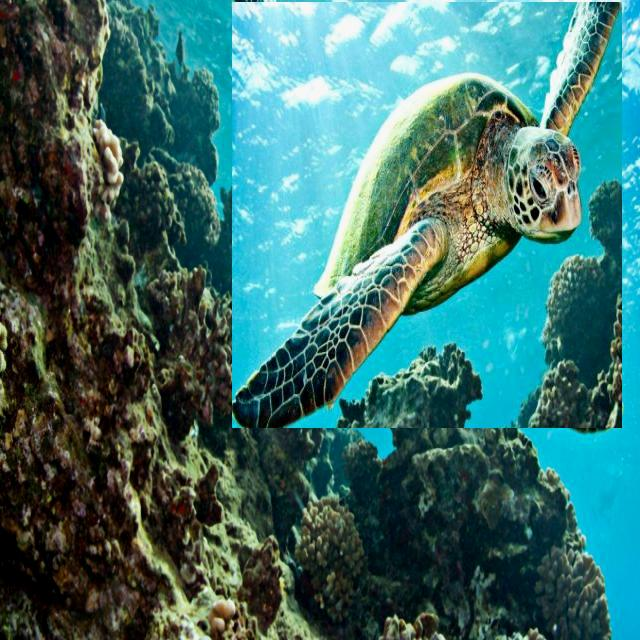Sea turtle: (232, 2, 622, 428)
